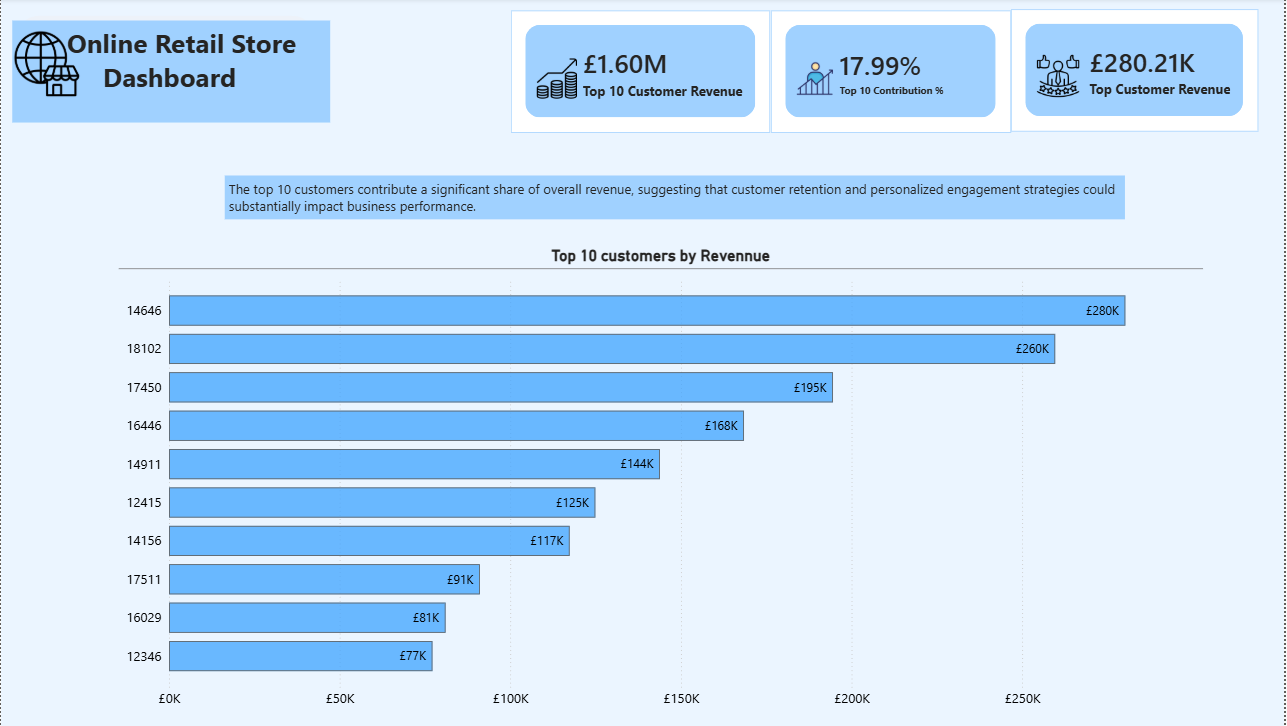

The page's visual inventory and layout, read from the dashboard file:
{"tool":"powerbi","page":{"name":"TOP 10 Customers by Revenue","canvas":[1570,900],"ordinal":2},"visuals":[{"type":"shape","box":[13.5,21.9,375.3,117.8],"z":0},{"type":"textbox","box":[13.5,26.9,388.8,124.6],"z":1000},{"type":"image","box":[13.3,39.8,84.7,81.3],"z":2000},{"type":"barChart","title":"Top 10 customers by Revennue","fields":{"Category":["cleaned Online Retail.CustomerID"],"Y":["All measures.Total Revenue"]},"box":[143.1,304.6,1326.3,572.3],"z":3000},{"type":"textbox","box":[274.3,217.1,1100.8,53.9],"z":4000},{"type":"cardVisual","fields":{"Data":["All measures.Top 10 Contribution %"]},"box":[941.2,14.9,293.8,149.4],"z":5000},{"type":"cardVisual","fields":{"Data":["All measures.Top Customer Revenue"]},"box":[1235,13.3,302.1,149.4],"z":6000},{"type":"cardVisual","fields":{"Data":["All measures.Top 10 Customer Revenue"]},"box":[624.2,14.9,317.1,149.4],"z":7000}]}

Visuals, with their boxes in screenshot pixels (x1, y1, x2, y2), scaled from the page's 1570x900 canvas onto the 1287x726 screenshot:
shape: [left=11, top=18, right=319, bottom=113]
textbox: [left=11, top=22, right=330, bottom=122]
image: [left=11, top=32, right=80, bottom=98]
"Top 10 customers by Revennue" barChart: [left=117, top=246, right=1205, bottom=707]
textbox: [left=225, top=175, right=1127, bottom=219]
cardVisual - All measures.Top 10 Contribution %: [left=772, top=12, right=1012, bottom=133]
cardVisual - All measures.Top Customer Revenue: [left=1012, top=11, right=1260, bottom=131]
cardVisual - All measures.Top 10 Customer Revenue: [left=512, top=12, right=772, bottom=133]
